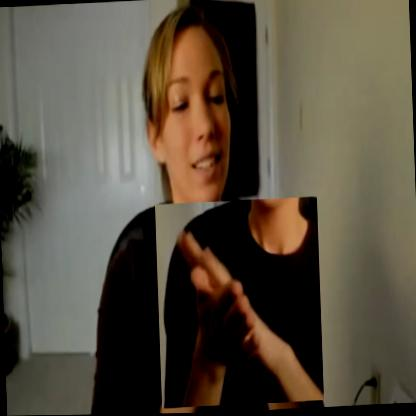NiceToMeetYou: (155, 197, 324, 409)
